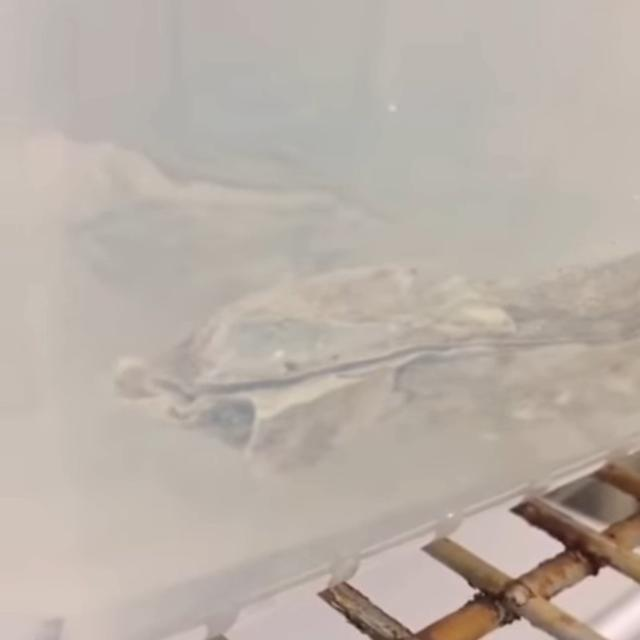Oyster-Closed: (107, 254, 640, 474)
Oyster-Indeterminate: (31, 125, 353, 244)
